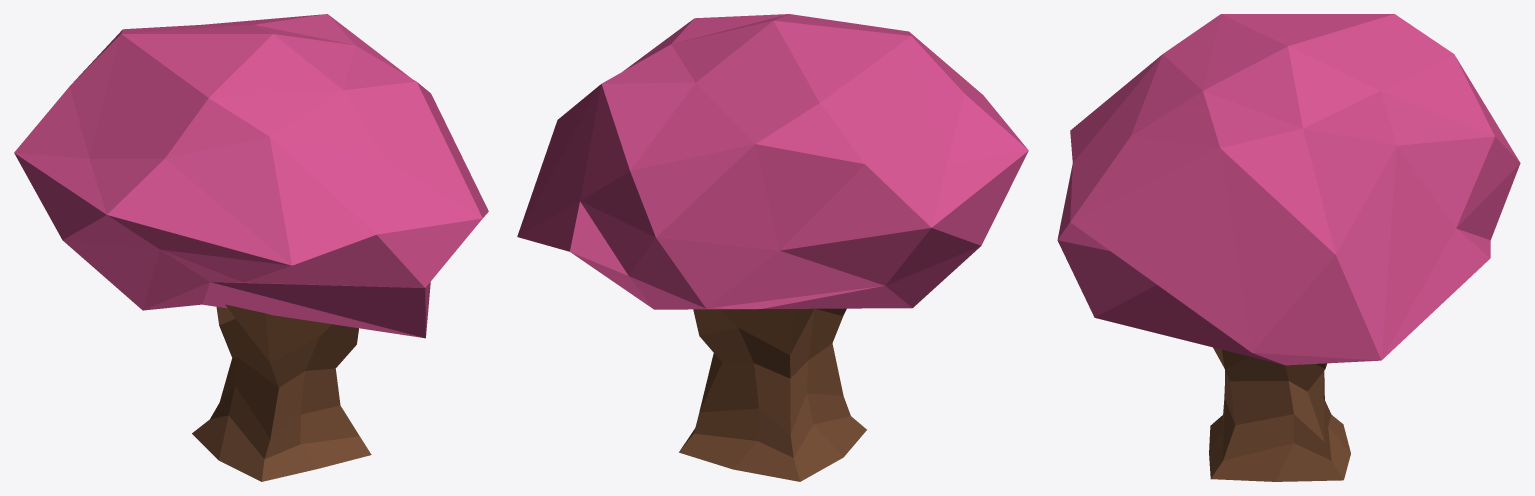
The model's file is Tree_30_Pink.fbx.
The picture shows the model from 3 angles, left to right: view 1: azimuth 30°, elevation 25°; view 2: azimuth 150°, elevation 25°; view 3: azimuth 270°, elevation 25°; orthographic projection. The views are drawn at different scales.
Parts seen in each view (by area): view 1: Tree_30_Pink_Part_1, Tree_30_Pink_Part_2; view 2: Tree_30_Pink_Part_1, Tree_30_Pink_Part_2; view 3: Tree_30_Pink_Part_1, Tree_30_Pink_Part_2.
Part boxes in pixels (box(x1,y1,x2,y2)): Tree_30_Pink_Part_1: box(14, 14, 488, 338); Tree_30_Pink_Part_2: box(192, 304, 371, 481); Tree_30_Pink_Part_1: box(517, 14, 1028, 309); Tree_30_Pink_Part_2: box(679, 308, 866, 481); Tree_30_Pink_Part_1: box(1057, 14, 1520, 365); Tree_30_Pink_Part_2: box(1209, 347, 1350, 481).
Size of the model in its own units: 912 by 881 by 915.
